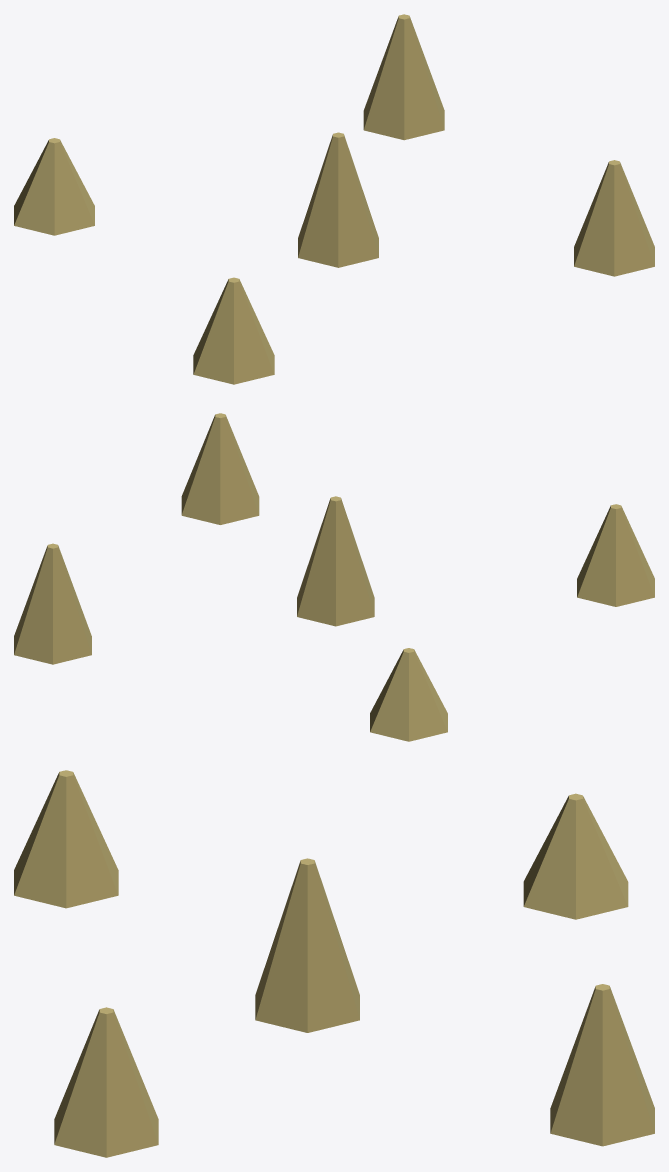
The model's file is bamboo-1.glb.
The picture shows the model from 3 angles, top to bottom: view 1: azimuth 30°, elevation 25°; view 2: azimuth 150°, elevation 25°; view 3: azimuth 270°, elevation 25°; orthographic projection. The views are drawn at different scales.
Visible parts, largest first — view 1: bamboo-1; view 2: bamboo-1; view 3: bamboo-1.
Boxes of the visible parts, x1,y1,x2,y2 form: bamboo-1: [14, 14, 654, 384]; bamboo-1: [14, 413, 654, 741]; bamboo-1: [14, 770, 654, 1157].
Size of the model in its own units: 0.53 by 0.12 by 0.4779.
Materials: 1 (1 with a texture image).
